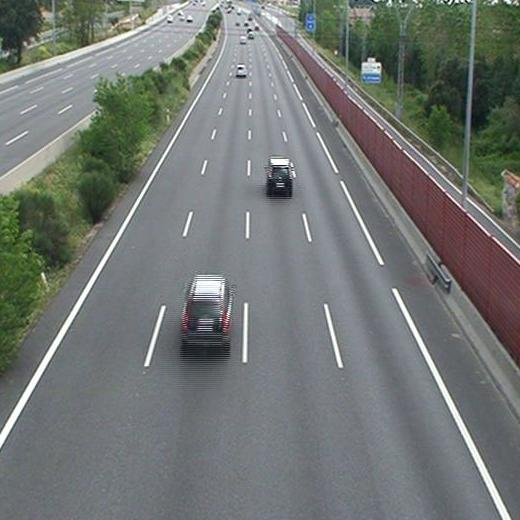car: (182, 276, 228, 341), (266, 158, 292, 190), (236, 64, 247, 76)
